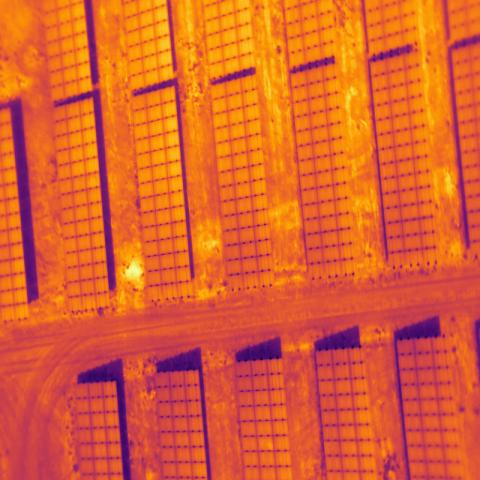fault: (257, 436, 275, 454)
